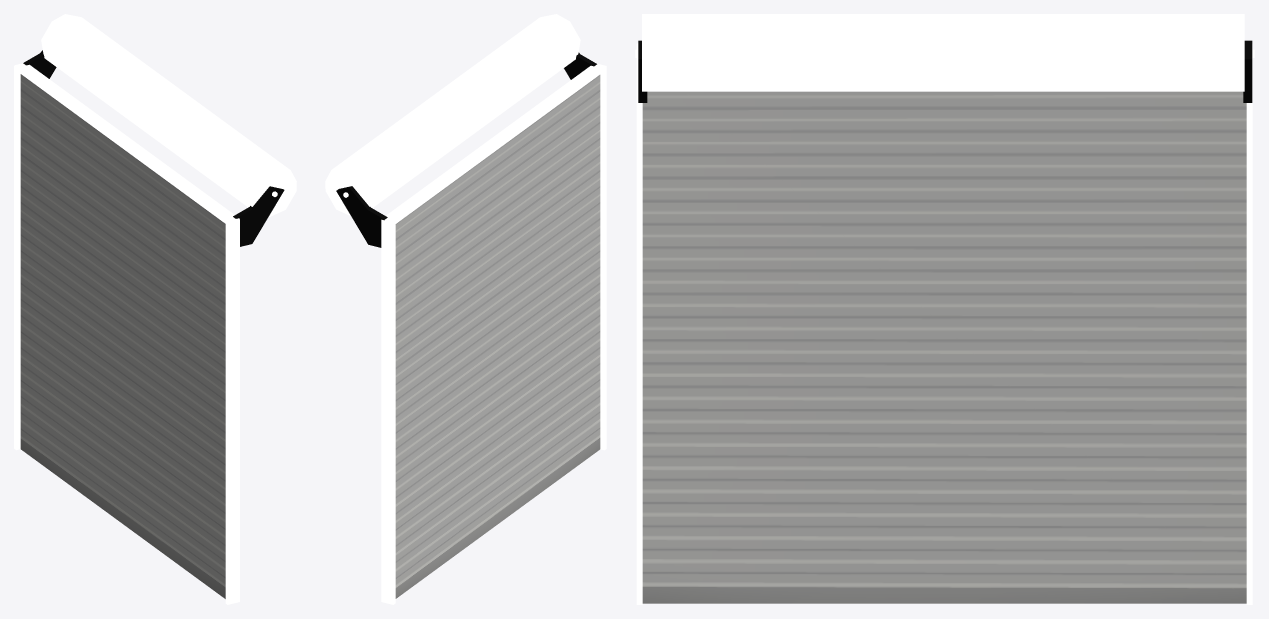
File: standard_door121212.7ccfa08c.gltf
The picture shows the model from 3 angles, left to right: view 1: azimuth 30°, elevation 25°; view 2: azimuth 150°, elevation 25°; view 3: azimuth 270°, elevation 25°; orthographic projection. The views are drawn at different scales.
Parts seen in each view (by area): view 1: doors, shutte, trims, hinges Right, hinges Left; view 2: doors, shutte, trims, hinges Left, hinges Right; view 3: doors, shutte, trims.
Boxes of the visible parts, left/top/right/bottom form: doors: left=20, top=74, right=225, bottom=598; shutte: left=41, top=14, right=296, bottom=217; trims: left=14, top=63, right=239, bottom=604; hinges Right: left=233, top=186, right=284, bottom=246; hinges Left: left=23, top=50, right=56, bottom=78; doors: left=395, top=75, right=600, bottom=598; shutte: left=325, top=14, right=580, bottom=215; trims: left=381, top=63, right=606, bottom=604; hinges Left: left=336, top=186, right=387, bottom=247; hinges Right: left=564, top=52, right=596, bottom=79; doors: left=642, top=91, right=1246, bottom=603; shutte: left=642, top=14, right=1244, bottom=91; trims: left=636, top=43, right=1252, bottom=604.
Size of the model in its own units: 1.17 by 6.66 by 6.1.
6 materials, 1 textured.
